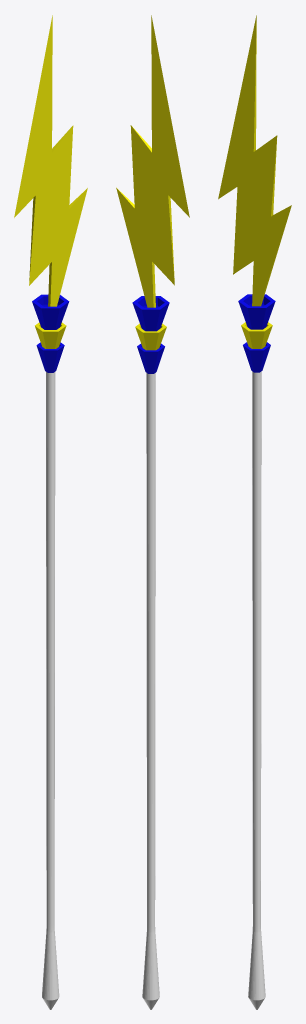
The model's file is Lightning Spear.fbx.
3 views of the same model, side by side, from view 1: azimuth 30°, elevation 25°; view 2: azimuth 150°, elevation 25°; view 3: azimuth 330°, elevation 25° (orthographic).
Parts seen in each view (by area): view 1: Blade, Spear, Blade Base 1, Blade Base 2, Blade base 3; view 2: Blade, Spear, Blade Base 1, Blade Base 2, Blade base 3; view 3: Blade, Spear, Blade Base 1, Blade Base 2, Blade base 3.
Boxes of the visible parts, x1,y1,x2,y2 form: Blade: [14, 15, 87, 306]; Spear: [42, 372, 59, 1009]; Blade Base 1: [32, 294, 69, 329]; Blade Base 2: [35, 322, 66, 348]; Blade base 3: [36, 342, 64, 372]; Blade: [116, 15, 189, 307]; Spear: [142, 373, 159, 1009]; Blade Base 1: [132, 296, 169, 331]; Blade Base 2: [135, 323, 166, 350]; Blade base 3: [137, 343, 164, 373]; Blade: [218, 15, 291, 306]; Spear: [248, 371, 265, 1009]; Blade Base 1: [238, 294, 275, 329]; Blade Base 2: [241, 322, 272, 348]; Blade base 3: [243, 342, 270, 372].
Size of the model in its own units: 19.38 by 250 by 8.5.
